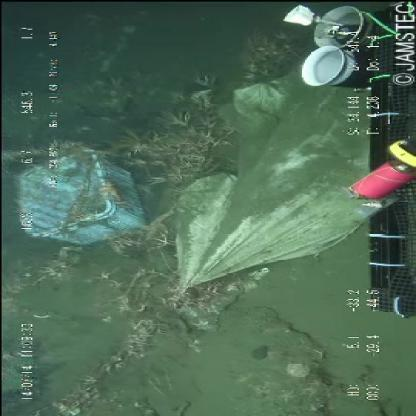Rov: (264, 0, 414, 328)
Rác: (9, 140, 157, 248)
